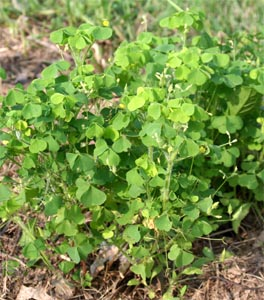oxalis: (50, 67, 218, 266)
